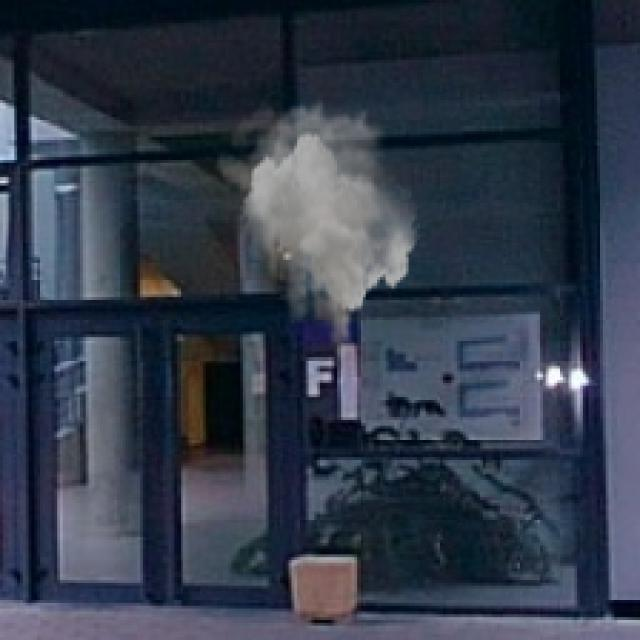Smoke: (214, 97, 420, 363)
